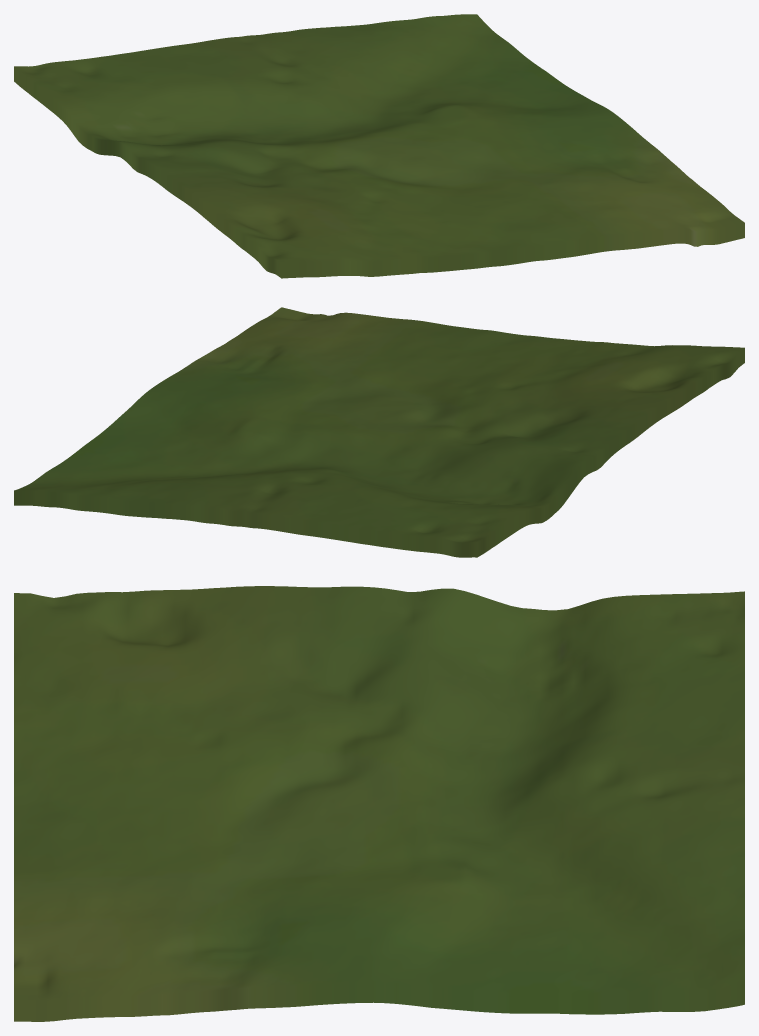
The model's file is terrain_8_-21.glb.
The picture shows the model from 3 angles, top to bottom: view 1: azimuth 30°, elevation 25°; view 2: azimuth 150°, elevation 25°; view 3: azimuth 270°, elevation 25°; orthographic projection. The views are drawn at different scales.
Parts seen in each view (by area): view 1: terrain_8_-21; view 2: terrain_8_-21; view 3: terrain_8_-21.
Part boxes in pixels (box(x1,y1,x2,y2)): terrain_8_-21: box(14, 14, 744, 278); terrain_8_-21: box(14, 307, 744, 557); terrain_8_-21: box(14, 586, 744, 1021).
Bounding box in the file's own units: 256 × 49.06 × 256.
